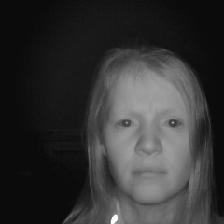normal: (90, 43, 211, 210)
